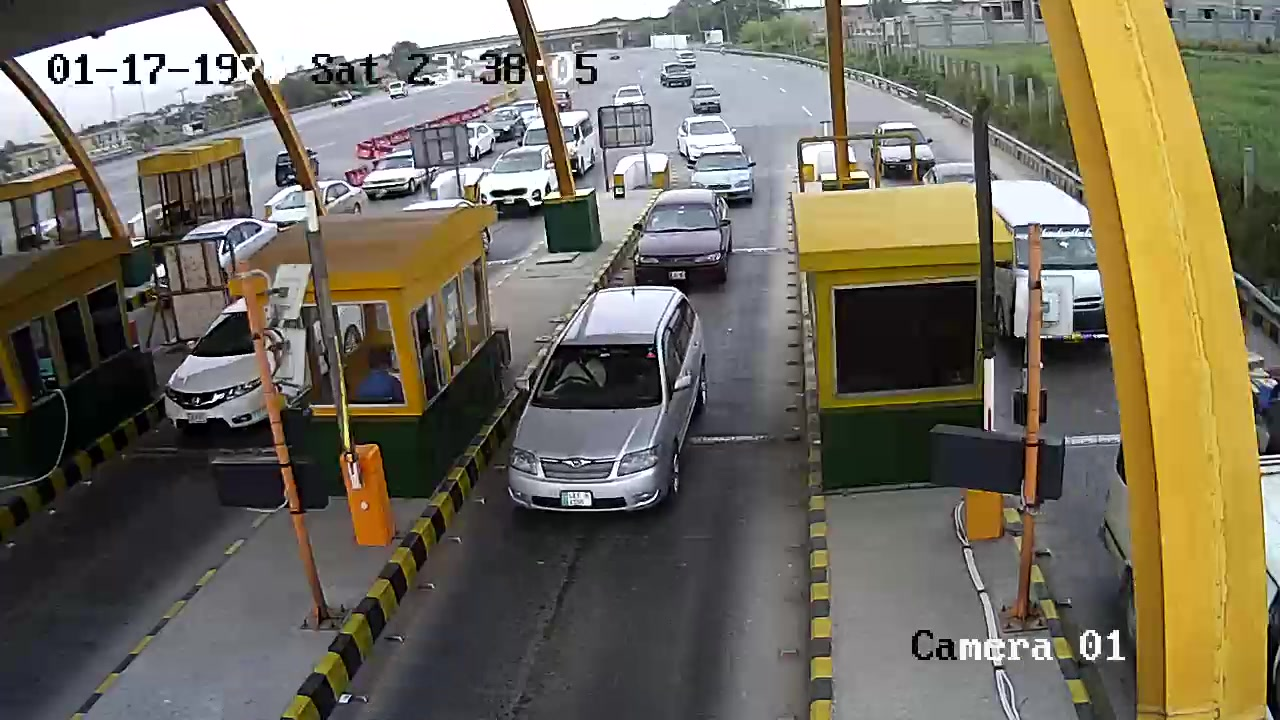F1: (482, 284, 751, 531), (621, 183, 751, 289)
